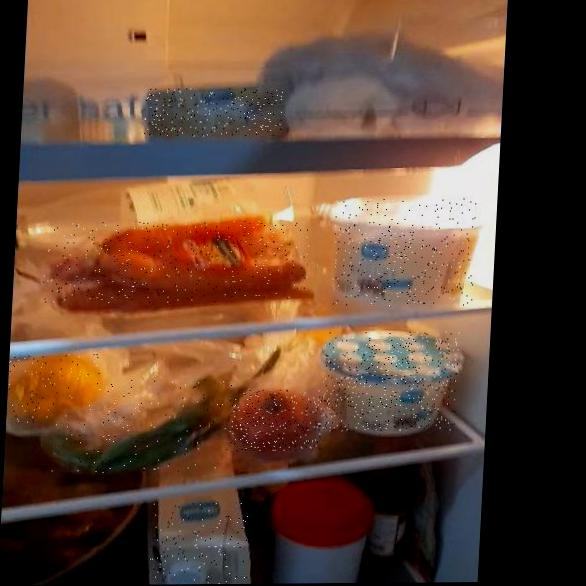butter: (144, 88, 283, 137)
carrot: (43, 221, 311, 304)
green chilies: (50, 379, 233, 473)
lemon: (5, 354, 110, 424)
milk: (148, 503, 252, 585)
tomato: (230, 389, 324, 451)
yoghurt: (331, 198, 478, 306), (320, 331, 460, 431)
